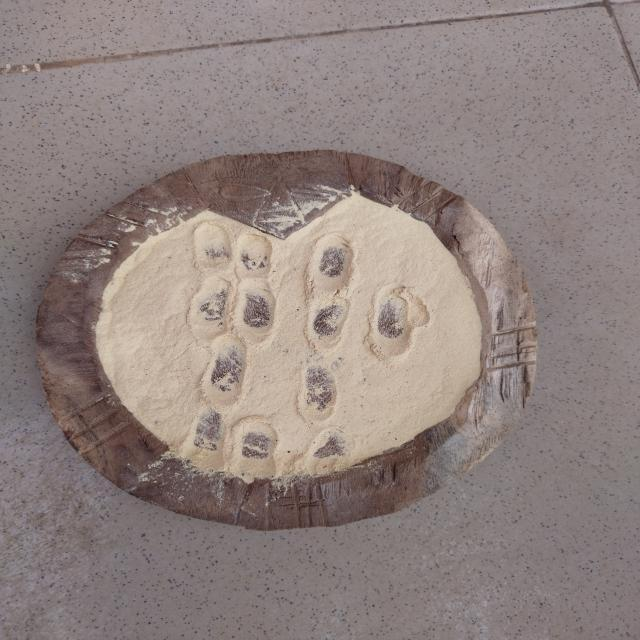double: (307, 291, 419, 361), (189, 408, 282, 480), (193, 277, 276, 340), (195, 224, 278, 280)
single: (202, 336, 250, 408), (294, 359, 342, 422), (294, 420, 354, 470), (310, 233, 358, 295)
